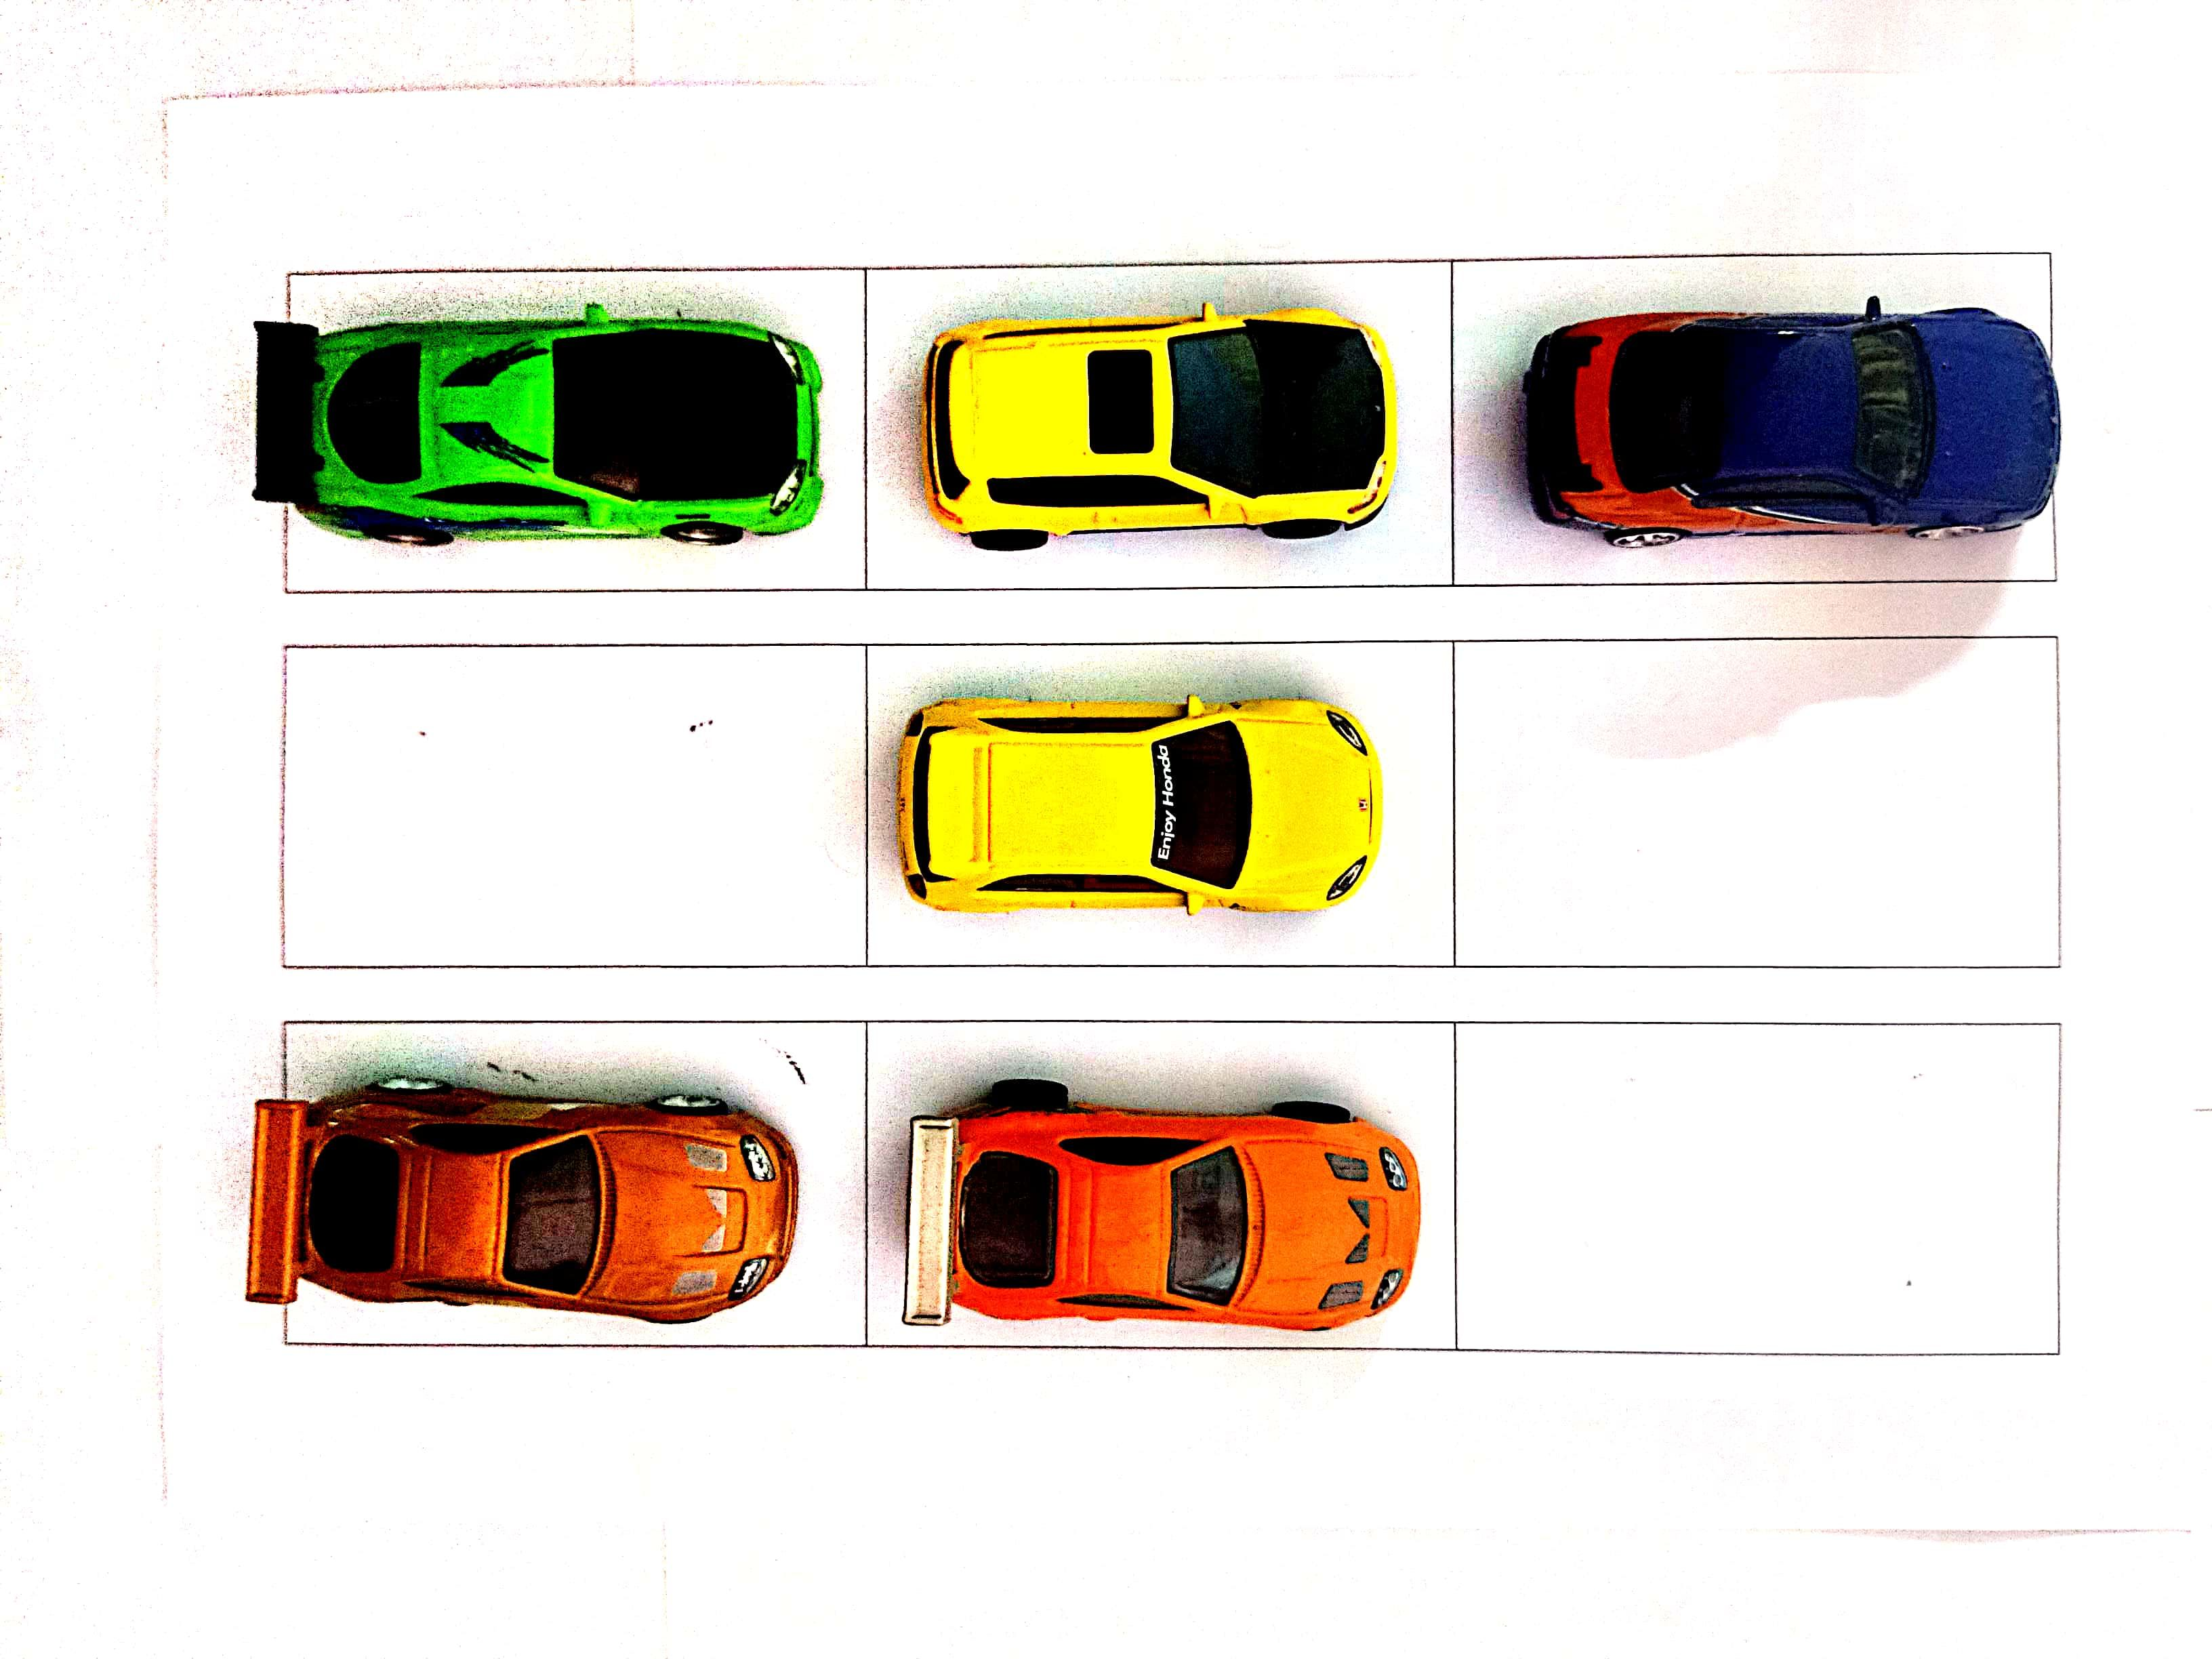Busy: (1451, 258, 2045, 584), (869, 263, 1454, 586), (862, 645, 1449, 964), (871, 1026, 1458, 1342), (291, 1026, 869, 1342), (286, 275, 866, 589)
Free: (1458, 645, 2055, 967), (1470, 1019, 2059, 1345), (286, 653, 857, 967)
